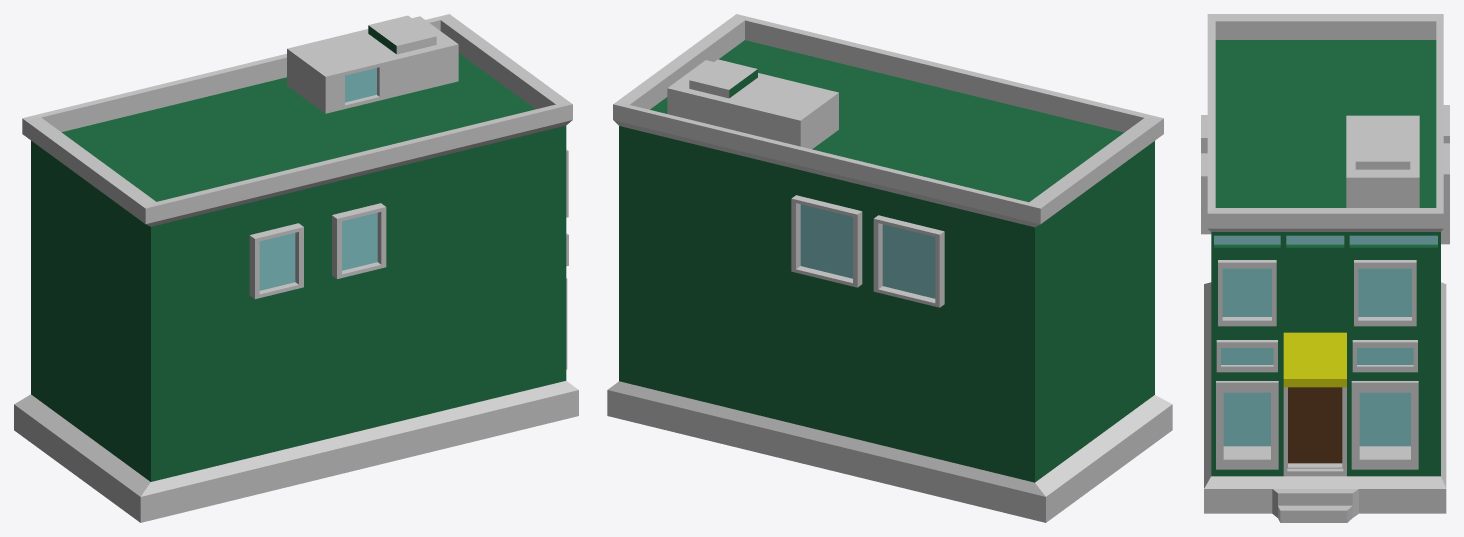
Rendered from building_green.fbx.
3 renders of one model, left to right at view 1: azimuth 30°, elevation 25°; view 2: azimuth 150°, elevation 25°; view 3: azimuth 270°, elevation 25°, orthographic. The views are drawn at different scales.
Parts seen in each view (by area): view 1: Cube; view 2: Cube; view 3: Cube.
Boxes of the visible parts, left/top/right/bottom form: Cube: left=14, top=14, right=578, bottom=522; Cube: left=607, top=14, right=1172, bottom=522; Cube: left=1201, top=14, right=1449, bottom=522.
Size of the model in its own units: 1543 by 1086 by 758.
